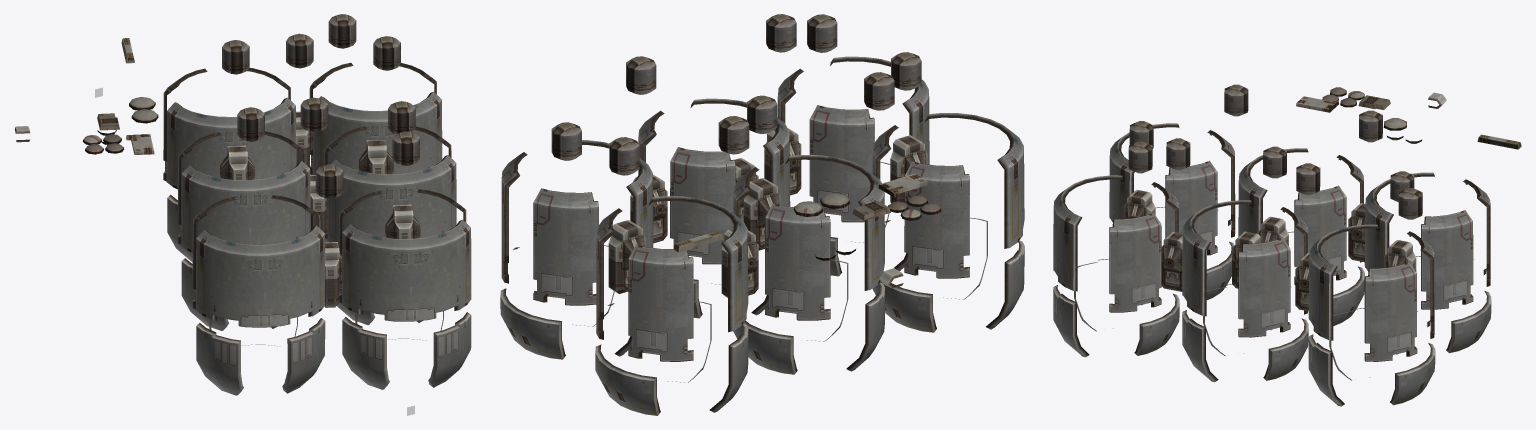
The model's file is prop_static_tr1_container_01_02.glb.
3 views of the same model, side by side, from view 1: azimuth 30°, elevation 25°; view 2: azimuth 150°, elevation 25°; view 3: azimuth 270°, elevation 25° (orthographic). The views are drawn at different scales.
Visible parts, largest first — view 1: tr1_container_01_02_mat01a_LOD0, tr1_container_01_02_mat01b_LOD0, tr1_container_01_02_mat01d_LOD0; view 2: tr1_container_01_02_mat01a_LOD0, tr1_container_01_02_mat01b_LOD0, tr1_container_01_02_mat01d_LOD0; view 3: tr1_container_01_02_mat01a_LOD0, tr1_container_01_02_mat01b_LOD0, tr1_container_01_02_mat01d_LOD0.
Boxes of the visible parts, x1=… form: tr1_container_01_02_mat01a_LOD0: x1=15, y1=14, x2=442, y2=395; tr1_container_01_02_mat01b_LOD0: x1=324, y1=126, x2=471, y2=389; tr1_container_01_02_mat01d_LOD0: x1=163, y1=67, x2=296, y2=262; tr1_container_01_02_mat01a_LOD0: x1=500, y1=14, x2=1024, y2=374; tr1_container_01_02_mat01b_LOD0: x1=638, y1=56, x2=929, y2=318; tr1_container_01_02_mat01d_LOD0: x1=595, y1=196, x2=748, y2=415; tr1_container_01_02_mat01a_LOD0: x1=1109, y1=84, x2=1521, y2=406; tr1_container_01_02_mat01b_LOD0: x1=1053, y1=175, x2=1308, y2=382; tr1_container_01_02_mat01d_LOD0: x1=1364, y1=172, x2=1491, y2=354.
Size of what is drawn, in the model's own units: 8.92 by 6.11 by 10.18.
Materials: 5 (3 with a texture image).
